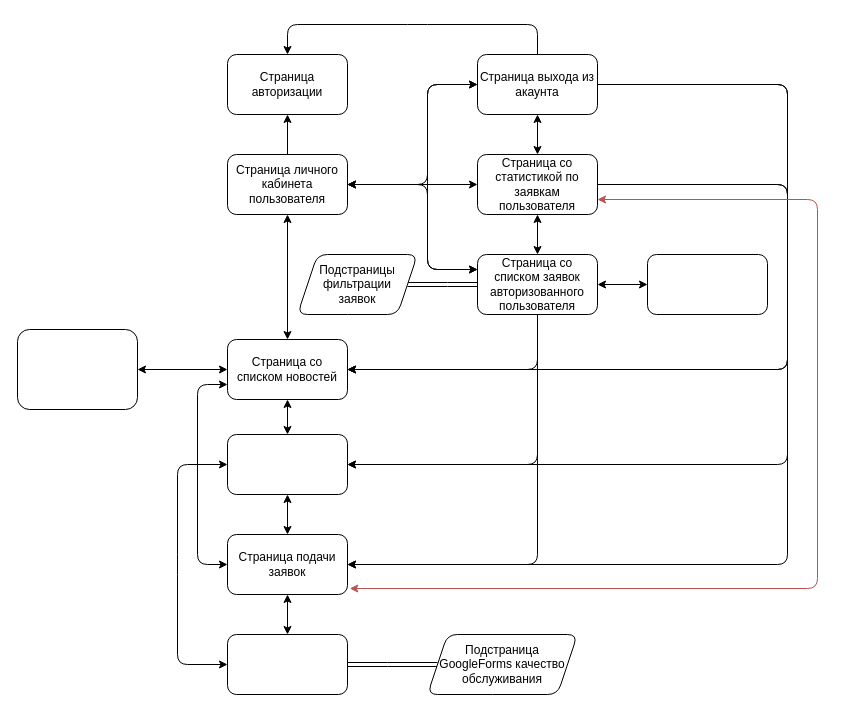
This 844x712 diagram has some shape labels left out. The box of each missing label's shape, as (x1, y1, x2, y2) in pixels:
Главная страница: (226, 434, 348, 494)
Руководство пользователя: (226, 634, 348, 694)
Страница детального просмотра новостей и добавления комментариев: (16, 328, 138, 410)
Страница изменения заявки: (646, 254, 768, 314)
